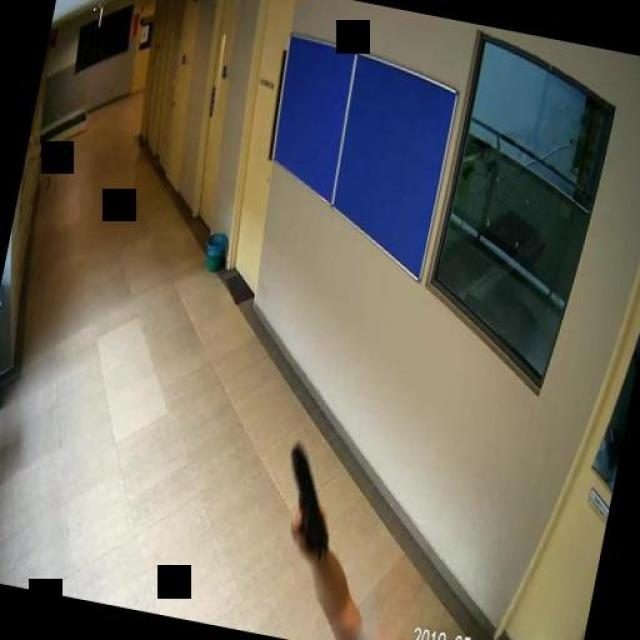gun: (272, 440, 346, 561)
